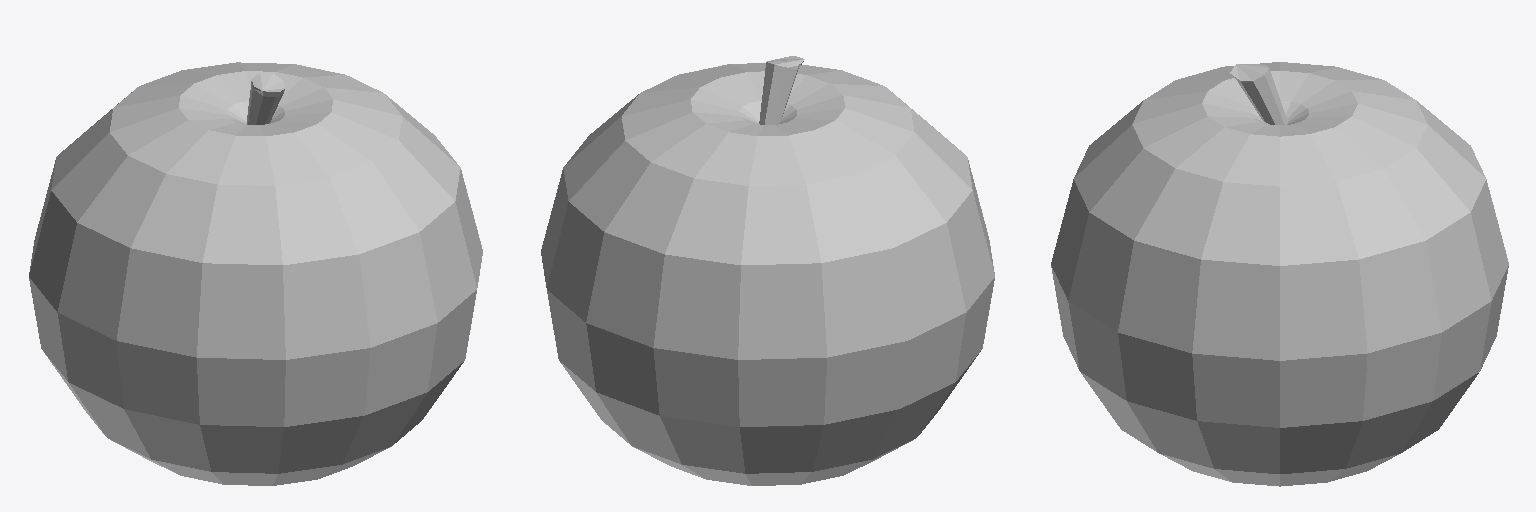
Rendered from apple.obj.
3 views of the same model, side by side, from view 1: azimuth 30°, elevation 25°; view 2: azimuth 150°, elevation 25°; view 3: azimuth 270°, elevation 25° (orthographic).
Parts seen in each view (by area): view 1: Cube; view 2: Cube; view 3: Cube.
Boxes of the visible parts, x1=… form: Cube: x1=29, y1=62, x2=482, y2=485; Cube: x1=541, y1=56, x2=994, y2=485; Cube: x1=1051, y1=62, x2=1508, y2=486.
Bounding box in the file's own units: 10.48 × 9.47 × 10.48.